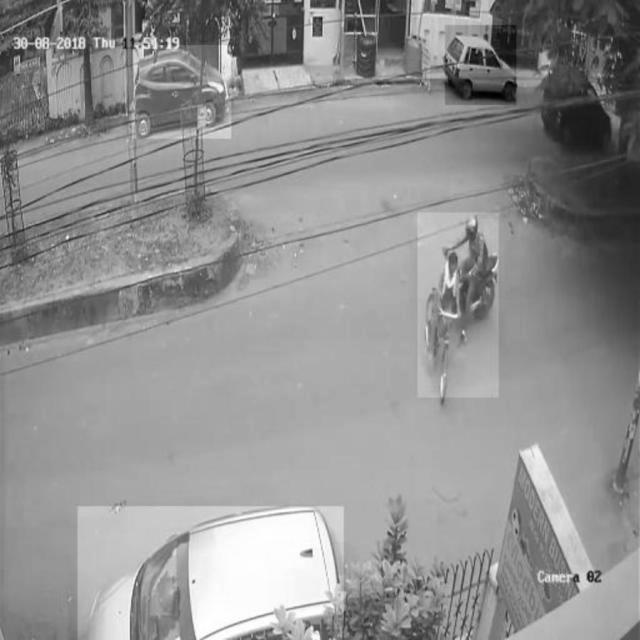accident: (418, 213, 499, 398)
vehicle: (78, 506, 344, 640), (133, 45, 231, 138), (445, 26, 516, 106)
